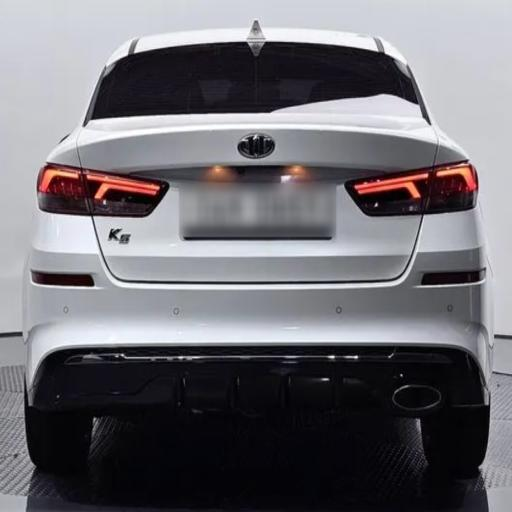normal: (11, 14, 505, 494)
